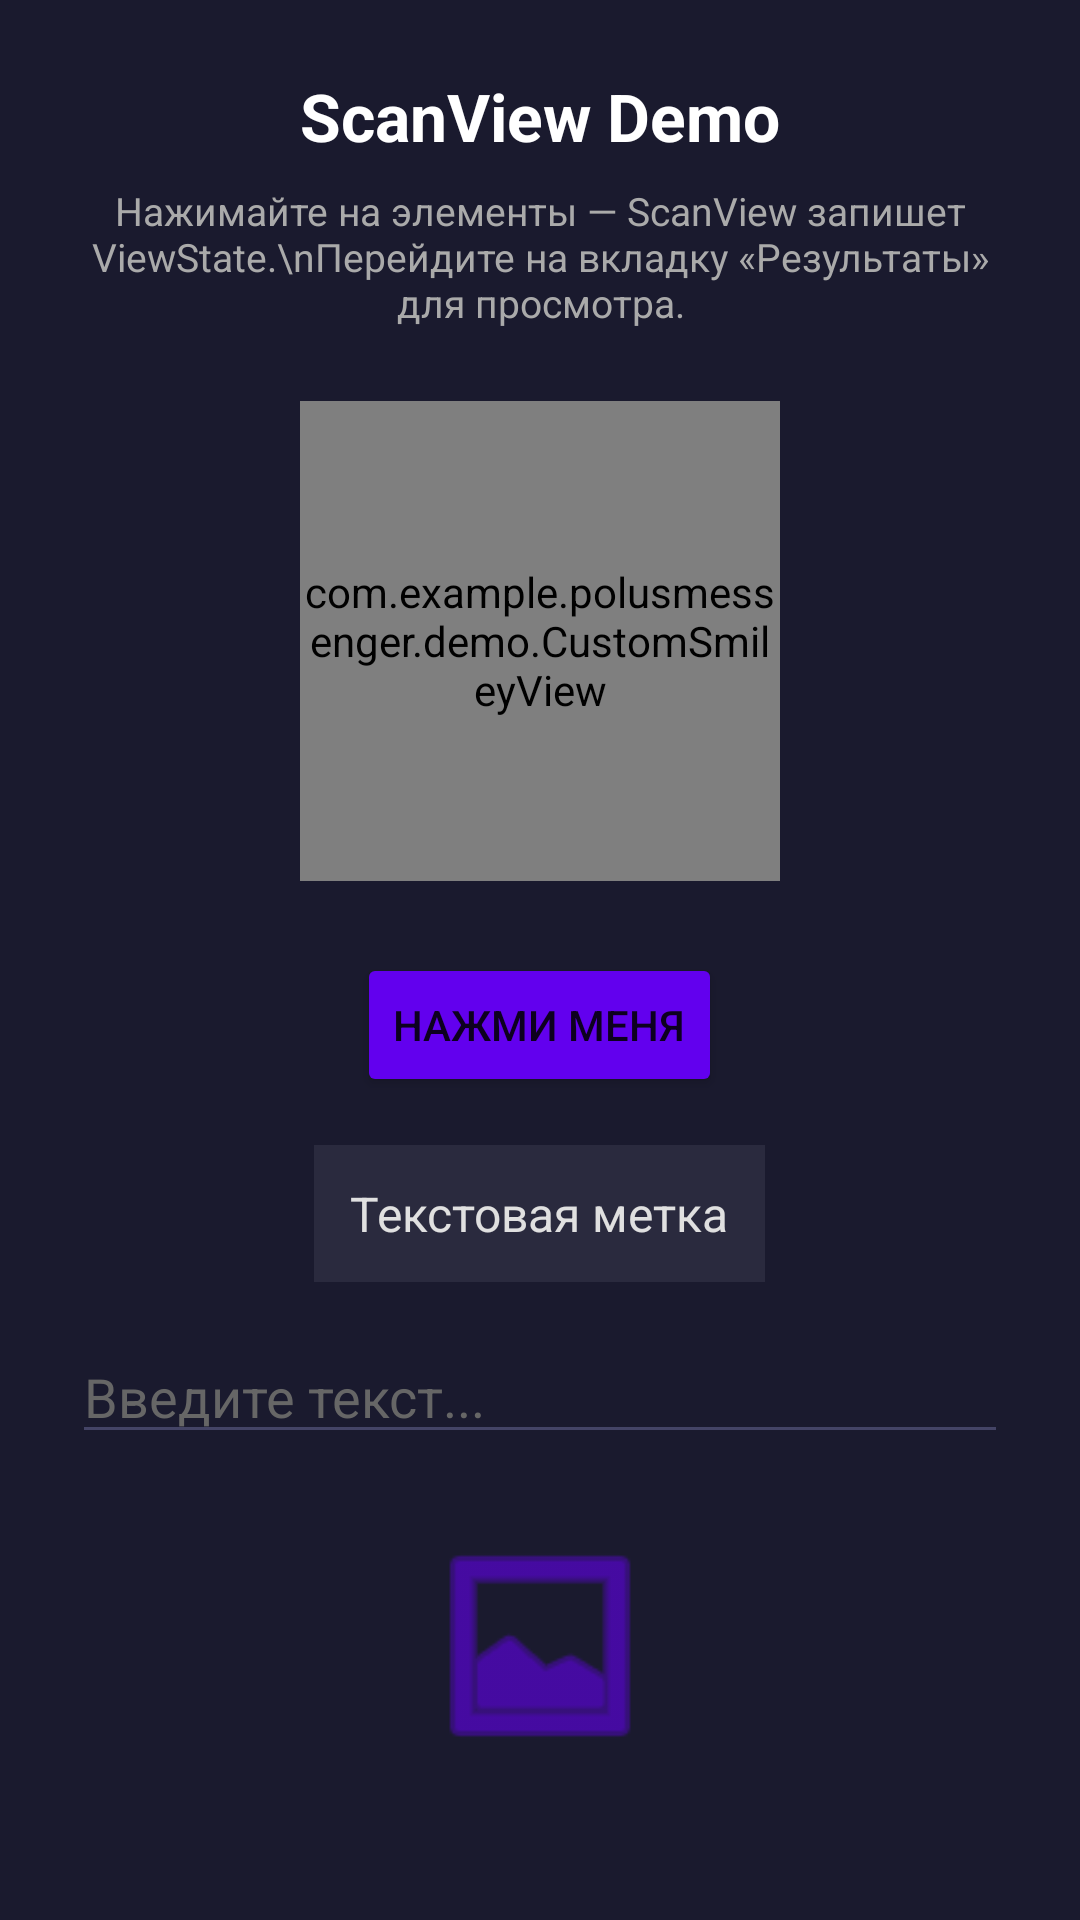

Icons on this 1080*1920 Android screen, each with its box as {"x1": x1, "y1": y1, "x2": x2, "y2": y2}:
demo image: {"x1": 450, "y1": 1555, "x2": 630, "y2": 1737}
